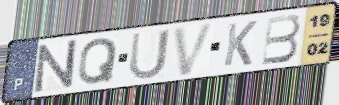B: (260, 13, 302, 67)
K: (222, 19, 259, 68)
N: (33, 37, 78, 95)
Q: (76, 37, 120, 87)
U: (127, 27, 172, 82)
V: (171, 20, 218, 78)
